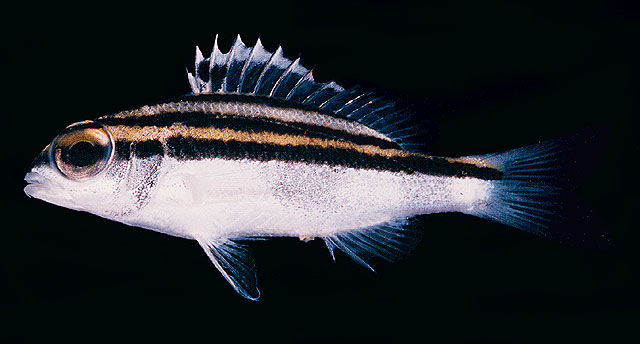fish: (22, 34, 556, 301)
